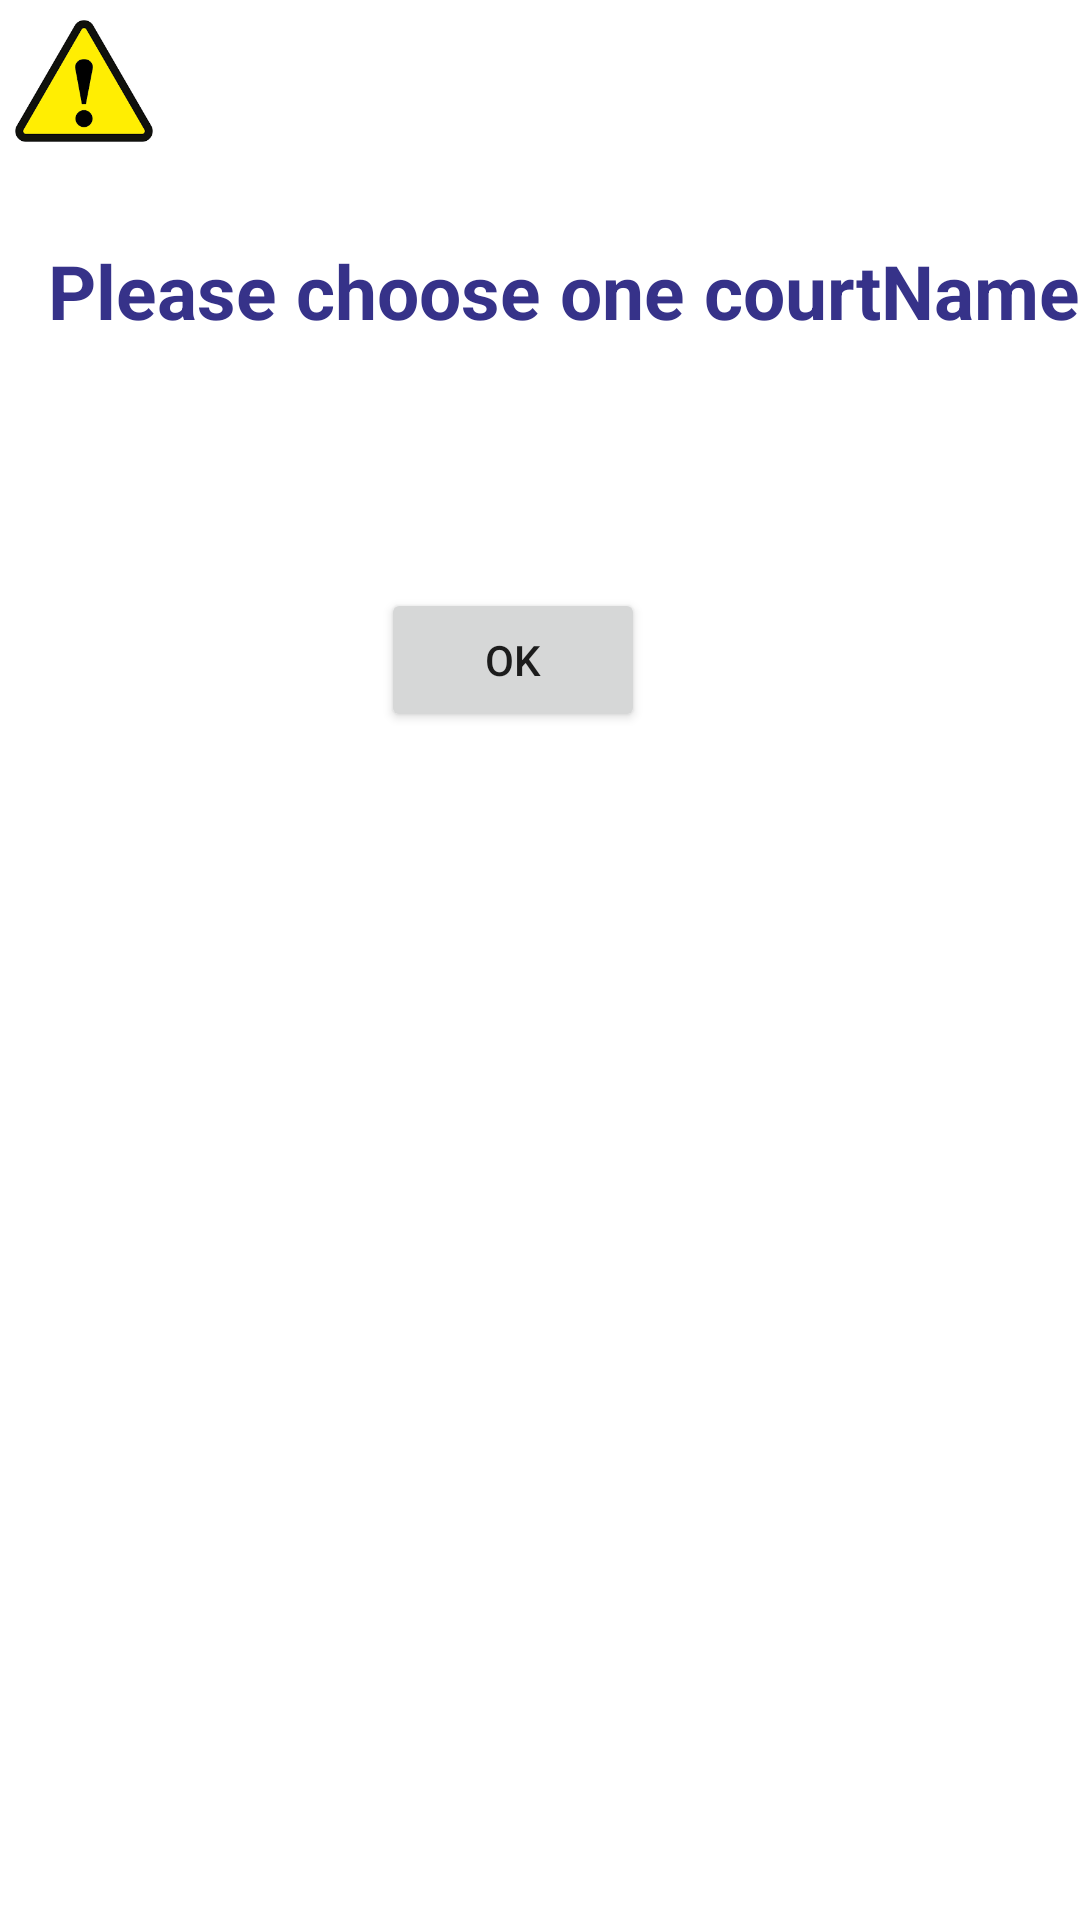

Screen size 1080*1920. Icon name, then its center in pixels as [x,y]:
warning: [84,81]
